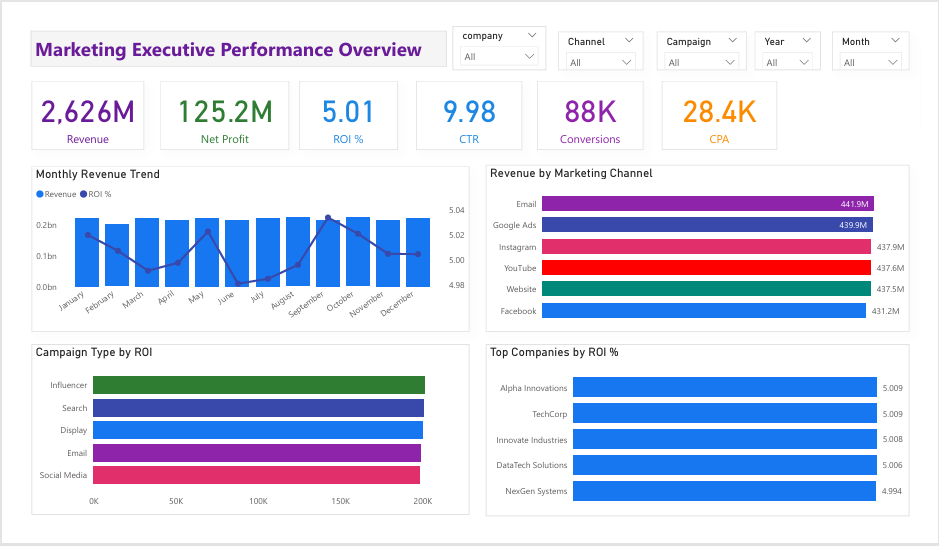

The page's visual inventory and layout, read from the dashboard file:
{"tool":"powerbi","page":{"name":"Page 1","canvas":[1280,720],"ordinal":0},"visuals":[{"type":"lineClusteredColumnComboChart","title":"Monthly Revenue Trend","fields":{"Category":["public dim_date.date_id.Variation.Date Hierarchy.Month"],"Y":["public fact_campaign_performance.Revenue"],"Y2":["public fact_campaign_performance.ROI %"]},"box":[17.5,208.7,622.8,235.8],"z":0},{"type":"clusteredBarChart","title":"Revenue by Marketing Channel","fields":{"Category":["public dim_channel.channel_used"],"Y":["public fact_campaign_performance.Estimated Revenue"]},"box":[662.7,207.1,602.1,237.3],"z":1000},{"type":"slicer","fields":{"Values":["public dim_campaign.campaign_type"]},"box":[906.4,17.5,127.4,55.8],"z":2000},{"type":"slicer","fields":{"Values":["public dim_channel.channel_used"]},"box":[766.2,17.5,121.1,55.8],"z":3000},{"type":"slicer","fields":{"Values":["public dim_date.month"]},"box":[1154.9,17.5,109.9,55.8],"z":4000},{"type":"card","fields":{"Values":["public fact_campaign_performance.Estimated Revenue"]},"box":[17.5,87.6,160.9,98.8],"z":5000},{"type":"card","fields":{"Values":["public fact_campaign_performance.Net Profit"]},"box":[200.7,87.6,183.2,98.8],"z":6000},{"type":"card","fields":{"Values":["public fact_campaign_performance.ROI %"]},"box":[398.2,87.6,140.2,98.8],"z":7000},{"type":"card","fields":{"Values":["public fact_campaign_performance.CTR %"]},"box":[563.9,87.6,151.3,98.8],"z":8000},{"type":"card","fields":{"Values":["public fact_campaign_performance.Conversions"]},"box":[735.9,87.6,151.3,98.8],"z":9000},{"type":"textbox","box":[17,17,590.8,51.1],"z":10000},{"type":"card","fields":{"Values":["public fact_campaign_performance.Cost per Acquisition"]},"box":[912.7,87.6,164.1,98.8],"z":11000},{"type":"barChart","title":"Top Companies by ROI %","fields":{"Category":["public dim_company.company"],"Y":["public fact_campaign_performance.ROI %"]},"box":[662.7,461.9,602.1,243.7],"z":12000},{"type":"clusteredBarChart","title":"Campaign Type by ROI","fields":{"Category":["public dim_campaign.campaign_type"],"Y":["Sum(public fact_campaign_performance.roi)"]},"box":[17.5,461.9,622.8,242.1],"z":13000},{"type":"slicer","fields":{"Values":["public dim_company.company"]},"box":[616.5,9.6,132.2,63.7],"z":14000},{"type":"slicer","fields":{"Values":["public dim_date.year"]},"box":[1045,17.5,94,55.8],"z":15000}]}

Visuals, with their boxes on the page's 1280x720 design canvas (x1, y1, x2, y2). These are canvas units, not pixel positions in the 939x546 screenshot, which may show the page scaled, cropped or inside an application window:
"Monthly Revenue Trend" lineClusteredColumnComboChart: {"x1": 18, "y1": 209, "x2": 640, "y2": 444}
"Revenue by Marketing Channel" clusteredBarChart: {"x1": 663, "y1": 207, "x2": 1265, "y2": 444}
slicer - public dim_campaign.campaign_type: {"x1": 906, "y1": 18, "x2": 1034, "y2": 73}
slicer - public dim_channel.channel_used: {"x1": 766, "y1": 18, "x2": 887, "y2": 73}
slicer - public dim_date.month: {"x1": 1155, "y1": 18, "x2": 1265, "y2": 73}
card - public fact_campaign_performance.Estimated Revenue: {"x1": 18, "y1": 88, "x2": 178, "y2": 186}
card - public fact_campaign_performance.Net Profit: {"x1": 201, "y1": 88, "x2": 384, "y2": 186}
card - public fact_campaign_performance.ROI %: {"x1": 398, "y1": 88, "x2": 538, "y2": 186}
card - public fact_campaign_performance.CTR %: {"x1": 564, "y1": 88, "x2": 715, "y2": 186}
card - public fact_campaign_performance.Conversions: {"x1": 736, "y1": 88, "x2": 887, "y2": 186}
textbox: {"x1": 17, "y1": 17, "x2": 608, "y2": 68}
card - public fact_campaign_performance.Cost per Acquisition: {"x1": 913, "y1": 88, "x2": 1077, "y2": 186}
"Top Companies by ROI %" barChart: {"x1": 663, "y1": 462, "x2": 1265, "y2": 706}
"Campaign Type by ROI" clusteredBarChart: {"x1": 18, "y1": 462, "x2": 640, "y2": 704}
slicer - public dim_company.company: {"x1": 616, "y1": 10, "x2": 749, "y2": 73}
slicer - public dim_date.year: {"x1": 1045, "y1": 18, "x2": 1139, "y2": 73}
